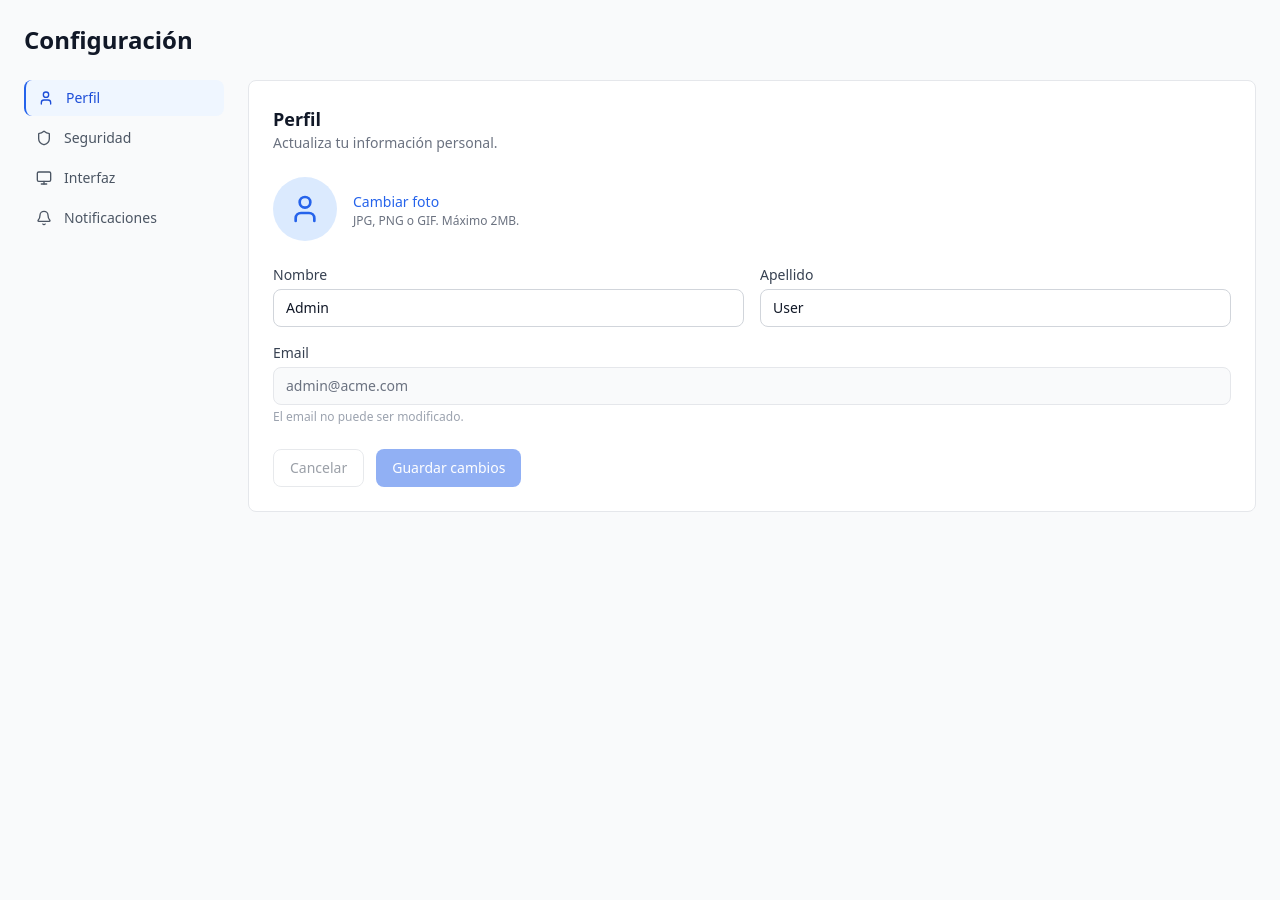
SettingsPage › cambio contraseña valida confirmación
The image size is (1280, 900).
# Navegar a tab Seguridad
Click the button "Seguridad".
click(124, 138)  # box x1=24 y1=120 x2=224 y2=156
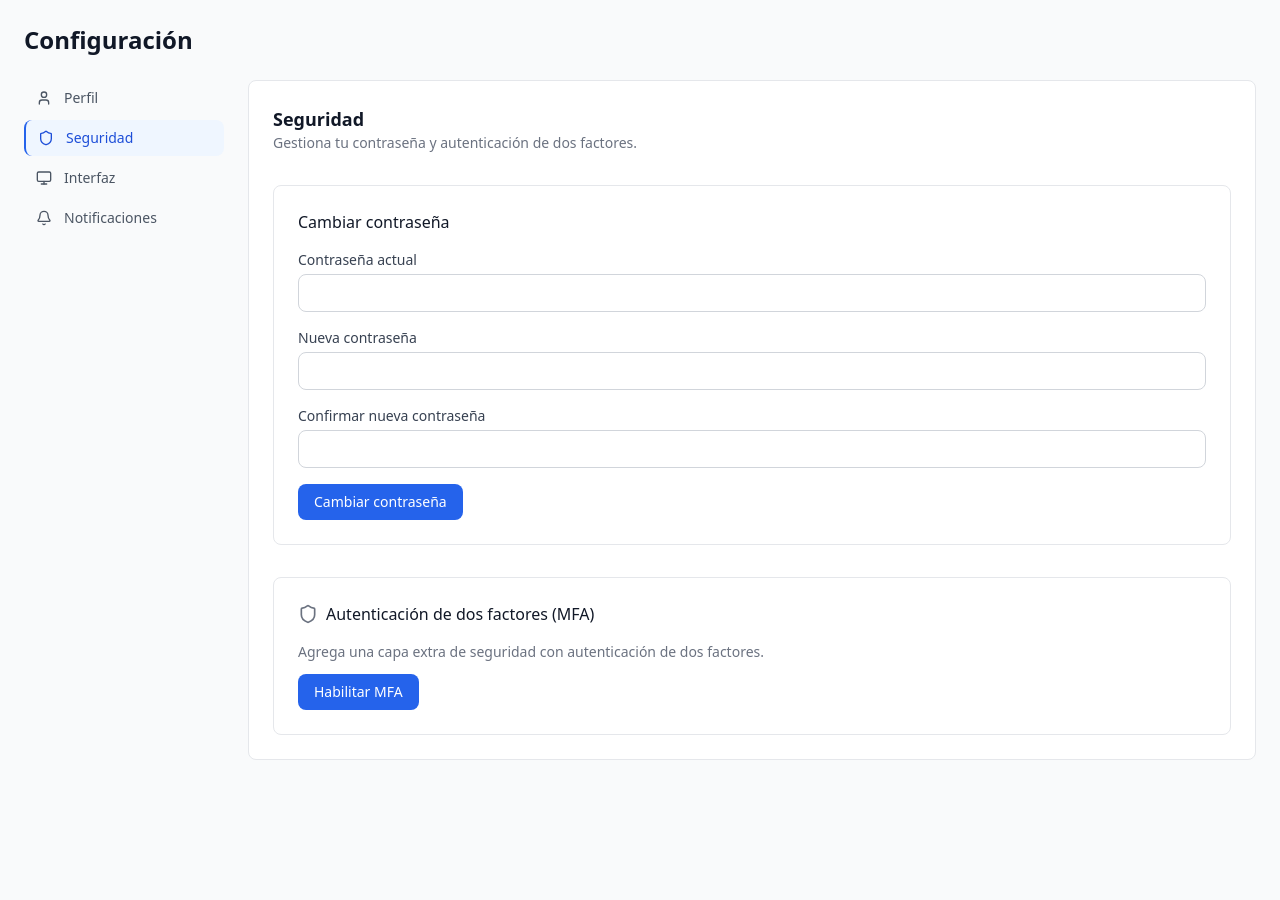
# Llenar contraseñas que no coinciden
Type "old123" into the password field labelled "Contraseña actual".
click(752, 293); type("old123")  # box x1=298 y1=274 x2=1206 y2=312
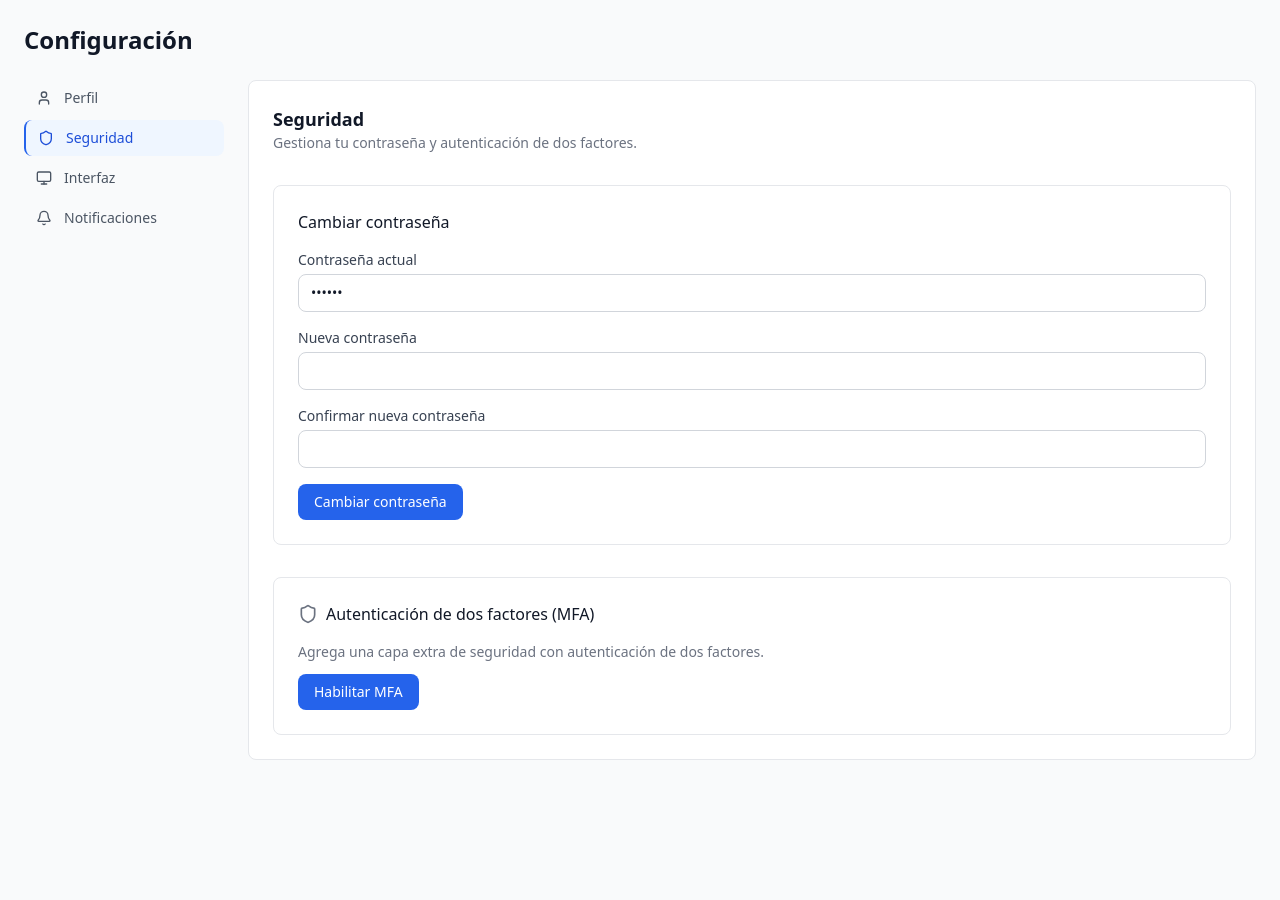
Type "newPass1!" into the password field labelled "Nueva contraseña".
click(752, 371); type("newPass1!")  # box x1=298 y1=352 x2=1206 y2=390
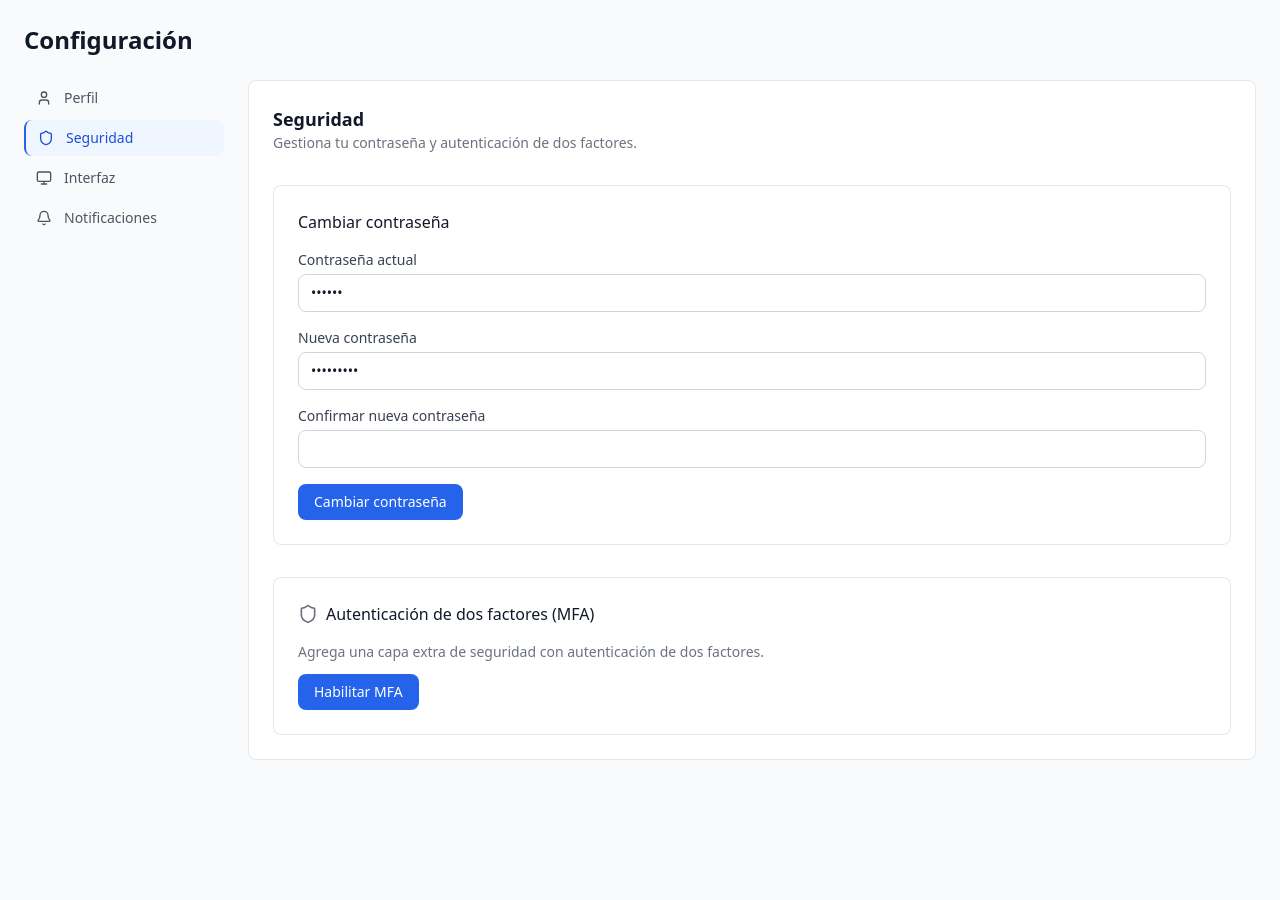
Type "DIFERENTE" into the password field labelled "Confirmar nueva contraseña".
click(752, 449); type("DIFERENTE")  # box x1=298 y1=430 x2=1206 y2=468
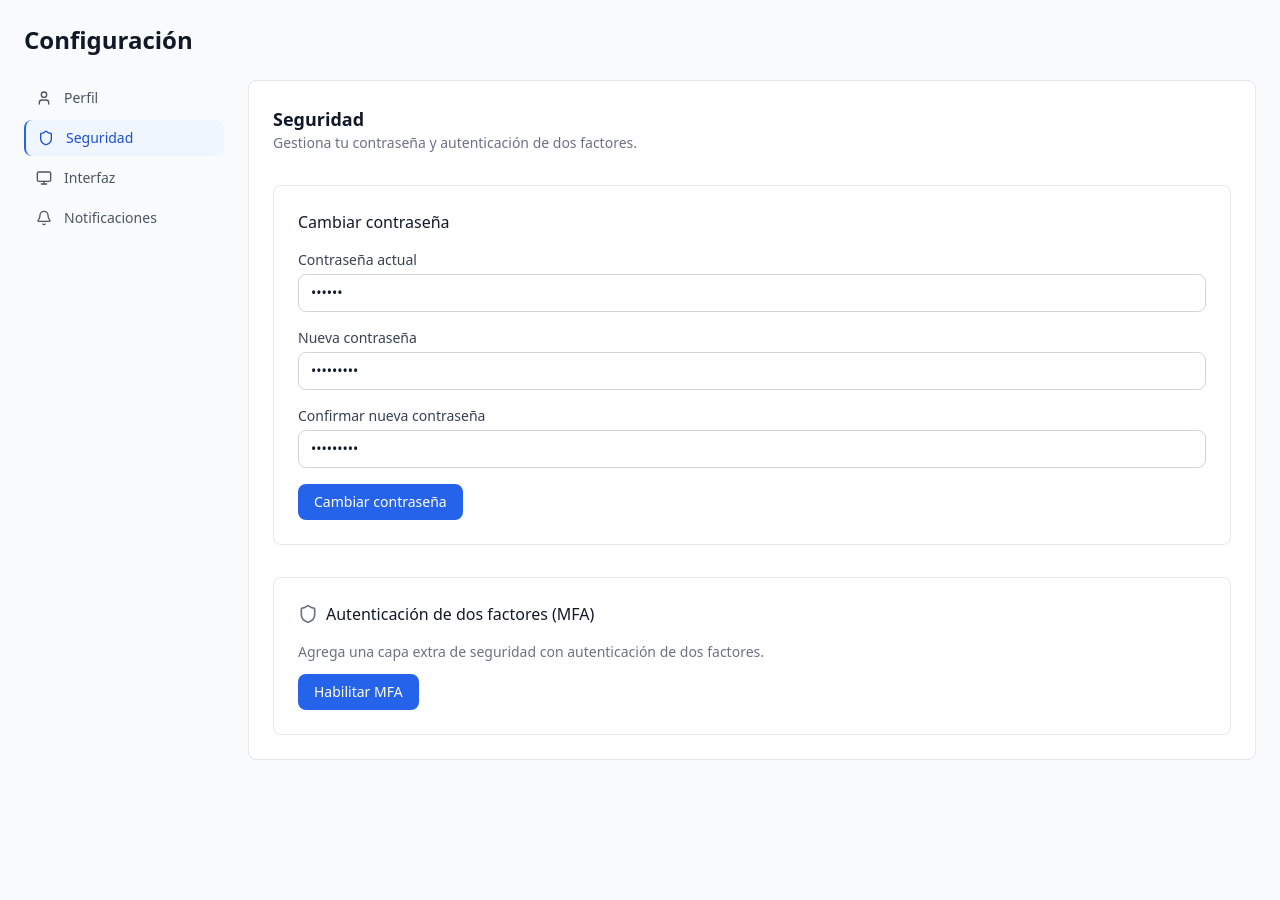
Submit the form with test id "change-password-form", box x1=298 y1=250 x2=1206 y2=520
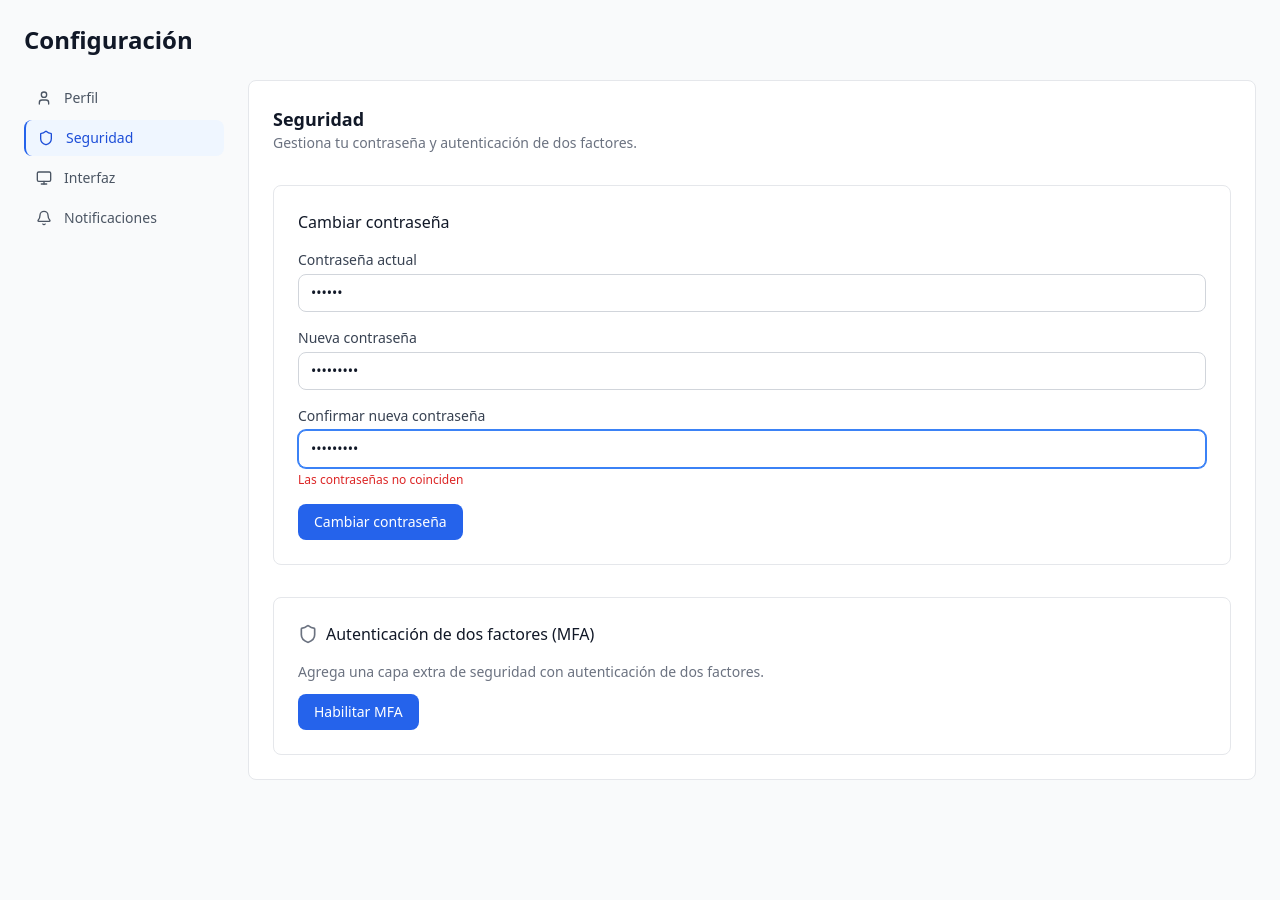
expect the text "Las contraseñas no coinciden" is shown: met, box x1=298 y1=471 x2=463 y2=488
